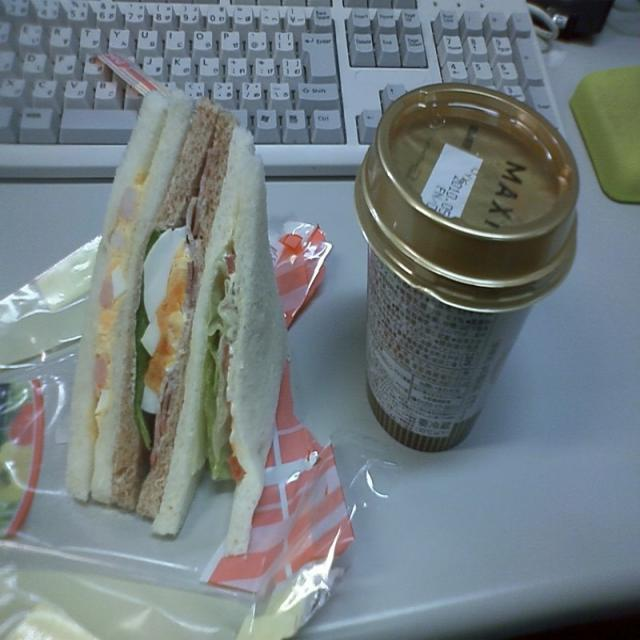三明治: (61, 83, 289, 523)
